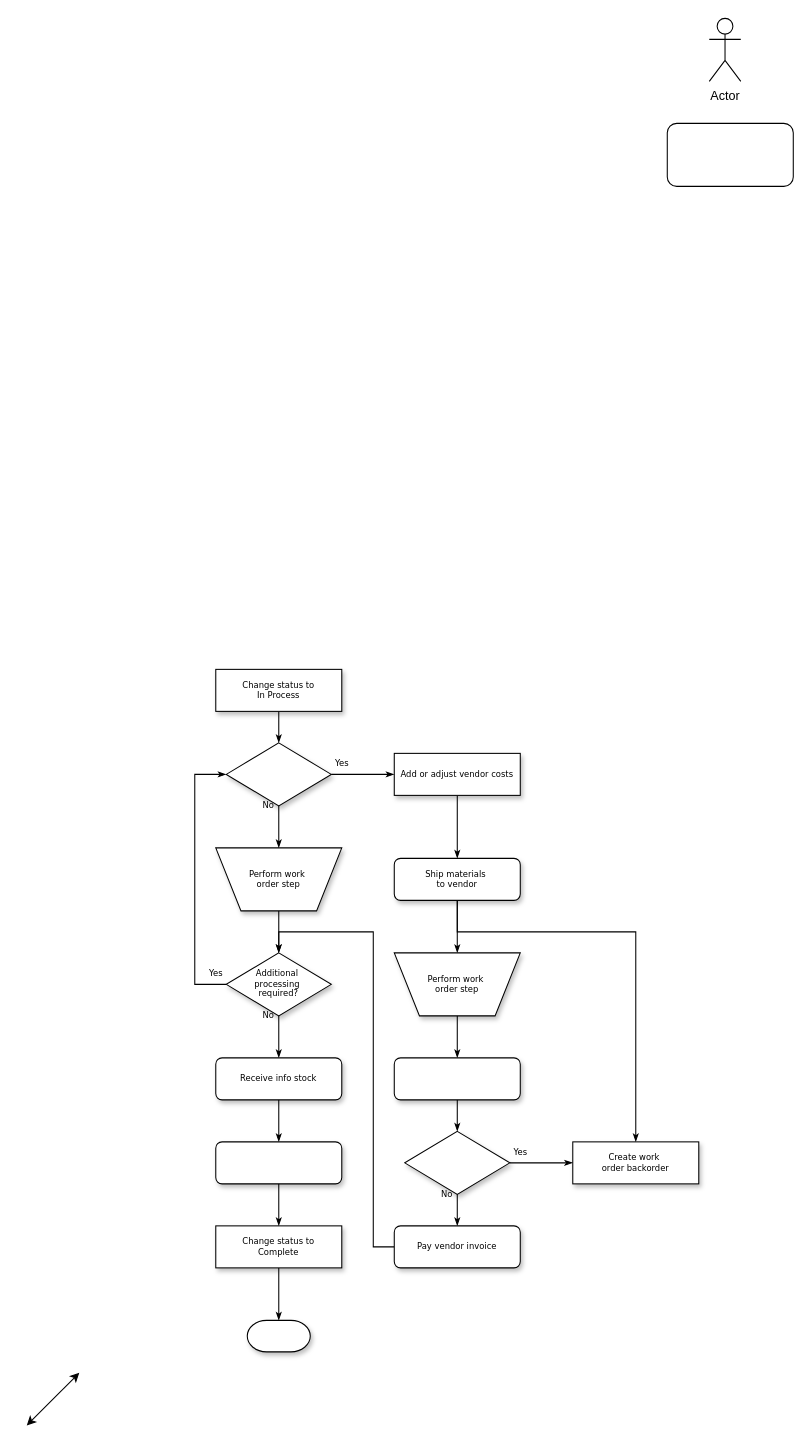
Some shapes in this 812 by 1453 pixel diagram are drawn without their labels. The shapes that lost their labels are listed below. From the top down, each one's centre as x and y in pixels, then its label:
(279,775): Step performed by outside vendor?
(458,1080): Receive product from vendor
(279,1164): Ship product on order if needed
(458,1164): Only partial quality received?
(279,1337): End
